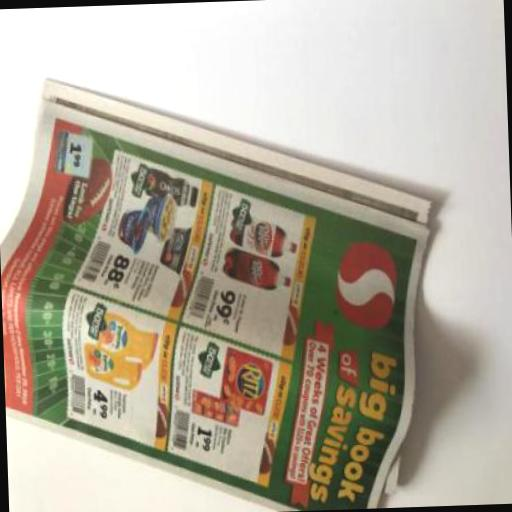paper: (0, 61, 439, 512), (40, 62, 440, 504)
